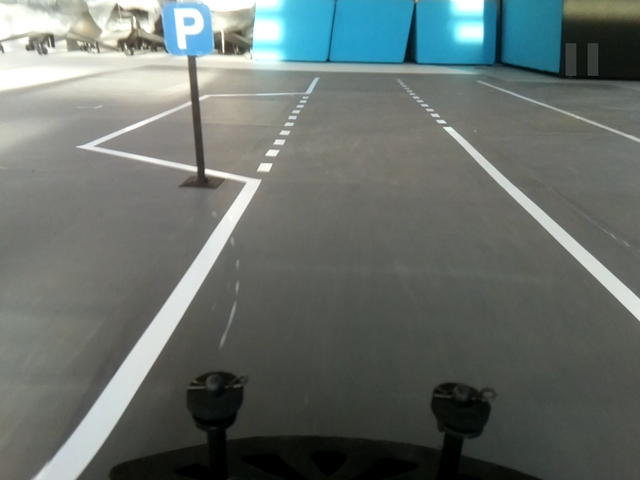parking: (162, 1, 214, 55)
